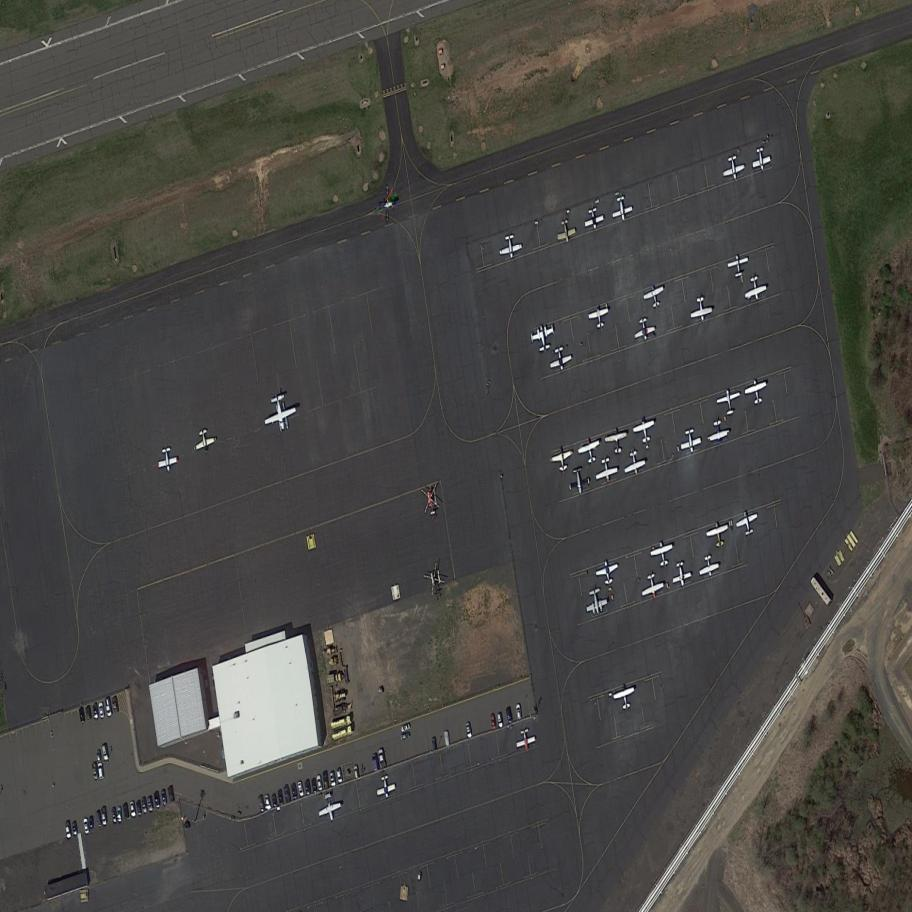large-vehicle: (807, 575, 835, 608), (328, 715, 354, 731), (330, 725, 354, 741)
plane: (258, 388, 301, 439), (315, 788, 343, 827), (714, 383, 744, 418), (582, 586, 611, 621), (742, 272, 770, 308), (733, 505, 761, 541), (720, 150, 748, 185), (592, 454, 620, 489), (742, 374, 770, 408), (704, 416, 732, 450), (529, 321, 557, 355), (191, 424, 219, 458), (704, 517, 731, 551), (594, 554, 621, 588), (549, 442, 576, 476), (631, 414, 658, 448), (649, 536, 675, 571), (611, 679, 637, 714), (576, 433, 602, 468), (641, 279, 668, 312), (640, 570, 666, 603), (498, 231, 524, 264), (548, 343, 574, 376), (678, 425, 704, 458), (567, 465, 592, 499), (688, 293, 714, 325), (622, 448, 648, 480), (155, 443, 180, 476), (632, 315, 658, 346), (670, 557, 693, 592), (610, 193, 635, 225), (374, 772, 398, 805), (725, 250, 751, 280), (604, 425, 629, 456), (513, 727, 538, 756), (749, 144, 772, 175), (697, 553, 721, 582), (582, 205, 606, 234), (587, 302, 611, 331), (555, 217, 578, 247)
small-vehicle: (376, 747, 389, 768), (103, 696, 114, 718), (327, 768, 338, 789), (370, 751, 381, 771), (514, 702, 524, 723), (100, 743, 110, 763), (167, 783, 176, 805), (153, 790, 162, 811), (283, 785, 292, 805), (257, 793, 266, 813), (91, 762, 100, 782), (399, 722, 414, 734), (111, 696, 120, 715), (263, 793, 272, 812), (140, 795, 149, 814), (335, 766, 345, 783), (129, 799, 137, 820), (160, 787, 168, 808), (505, 708, 514, 726), (296, 780, 305, 797), (464, 721, 473, 738), (78, 706, 86, 725), (443, 729, 451, 748), (97, 762, 105, 781), (97, 701, 105, 719), (316, 775, 324, 793), (270, 793, 279, 809), (64, 821, 72, 839), (399, 730, 412, 741), (147, 794, 154, 814), (83, 817, 90, 836), (96, 810, 103, 829), (101, 805, 107, 827), (322, 774, 330, 790), (304, 780, 312, 796), (496, 712, 504, 728), (490, 713, 497, 731), (85, 706, 92, 723), (277, 789, 284, 806), (123, 803, 130, 820), (311, 778, 318, 794), (291, 783, 298, 799), (71, 820, 78, 836), (136, 801, 143, 817), (93, 703, 99, 721), (431, 737, 438, 752), (111, 807, 117, 824), (116, 806, 122, 823), (354, 764, 360, 780), (96, 749, 102, 765), (89, 816, 95, 830)
